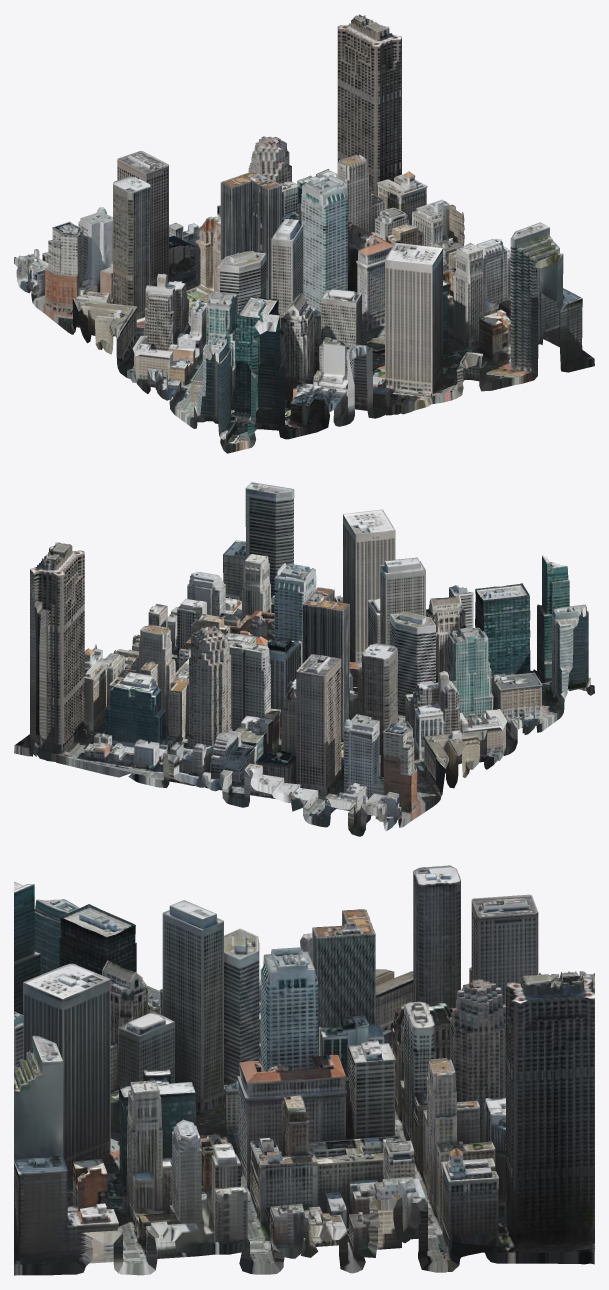
The model's file is z16-10485-25327-h0-yup-uvflip-v3-world.glb.
3 renders of one model, top to bottom at view 1: azimuth 30°, elevation 25°; view 2: azimuth 150°, elevation 25°; view 3: azimuth 270°, elevation 25°, orthographic. The views are drawn at different scales.
Size of the model in its own units: 484 by 260 by 485.
Materials: 1 (1 with a texture image).
